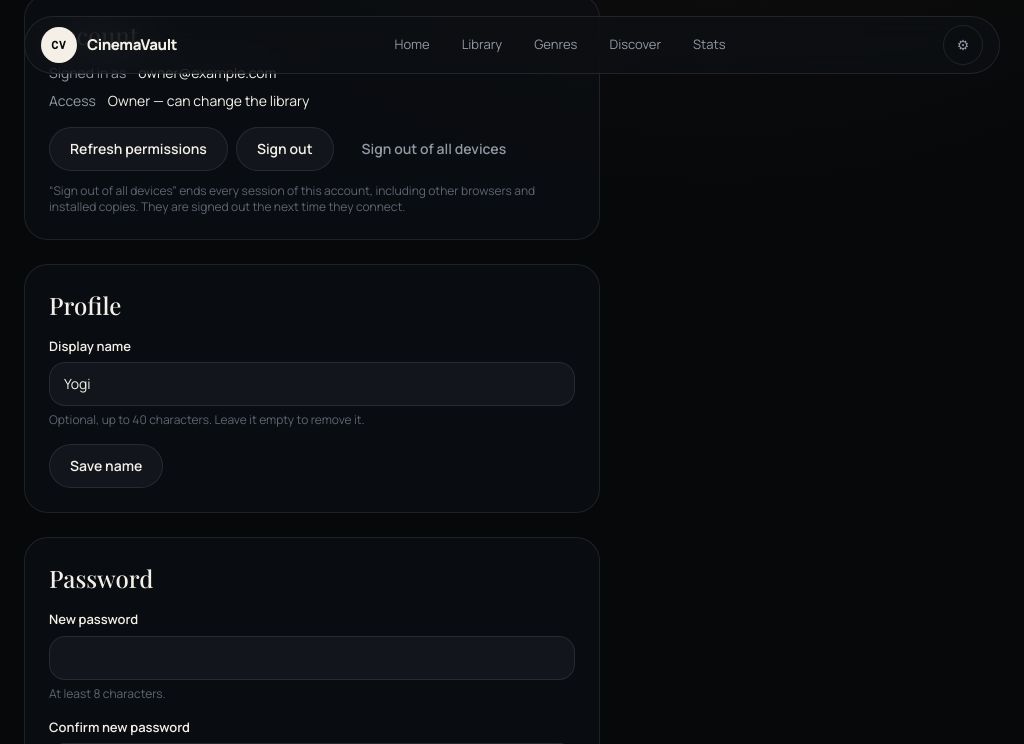
profile › shows the saved display name and saves a new one
This screenshot has width=1024, height=744.
(page scrolled)
Replace the text in the field labelled "Display name" with "  Yogeswar   C  " at (312, 384), box [49,362,575,406]
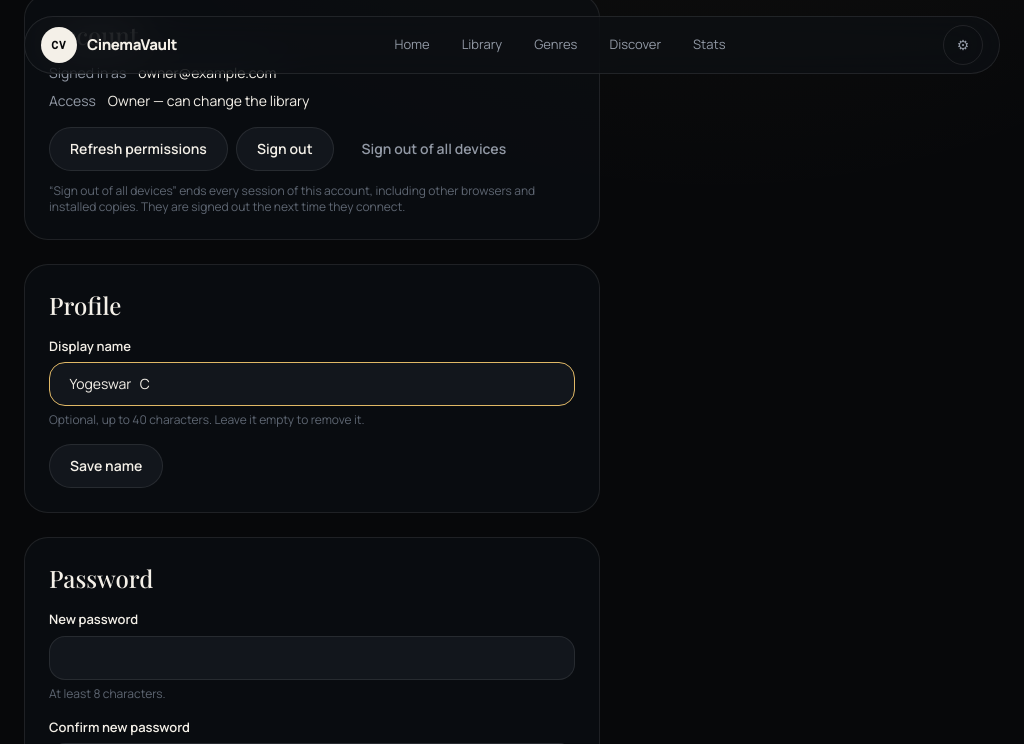
Click the button "Save name" at (106, 466), box [49,444,163,488]
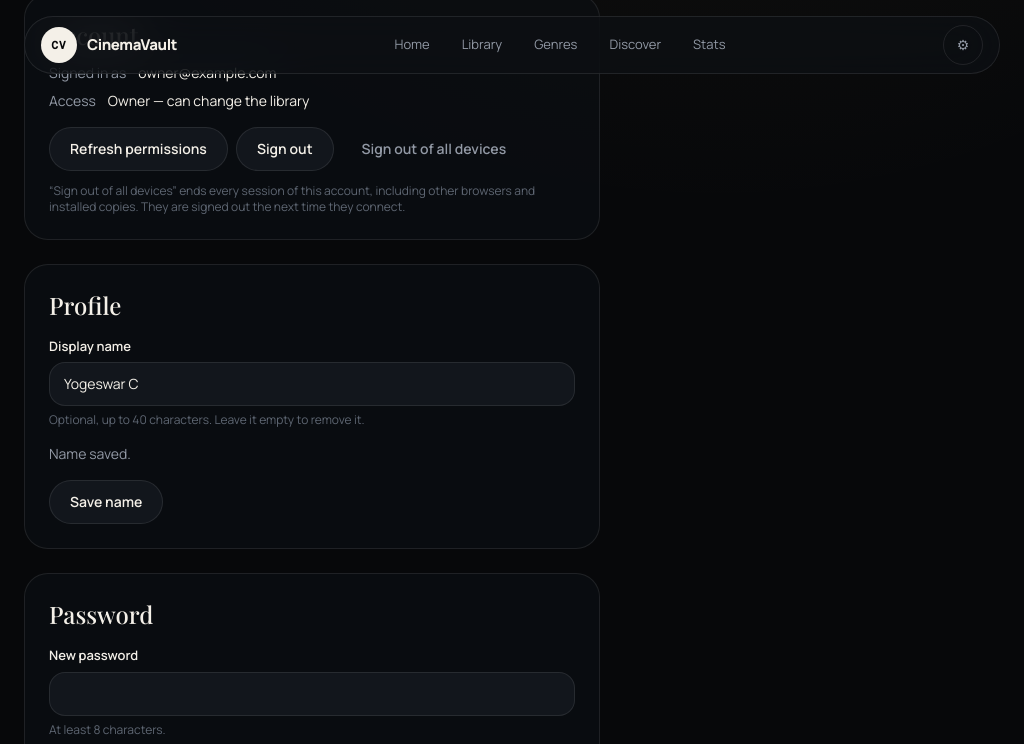
Expected: the text "Name saved." is shown, [49,444,131,463]
